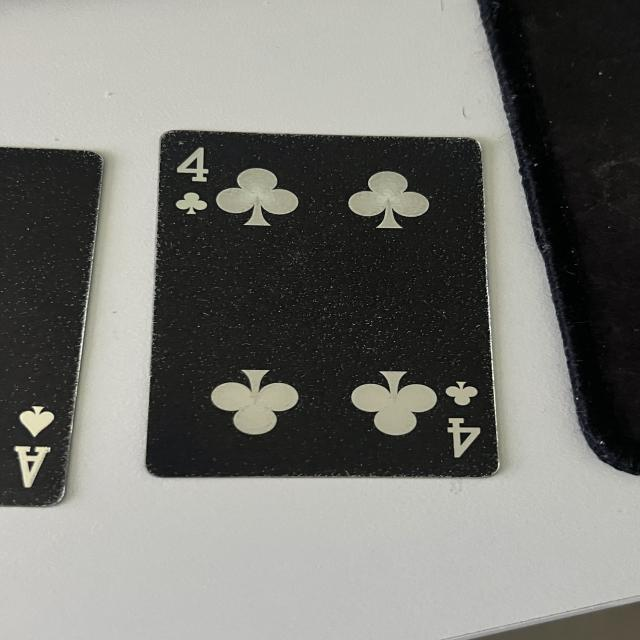4C: (171, 138, 215, 220), (443, 375, 483, 461)
AS: (14, 402, 59, 494)
